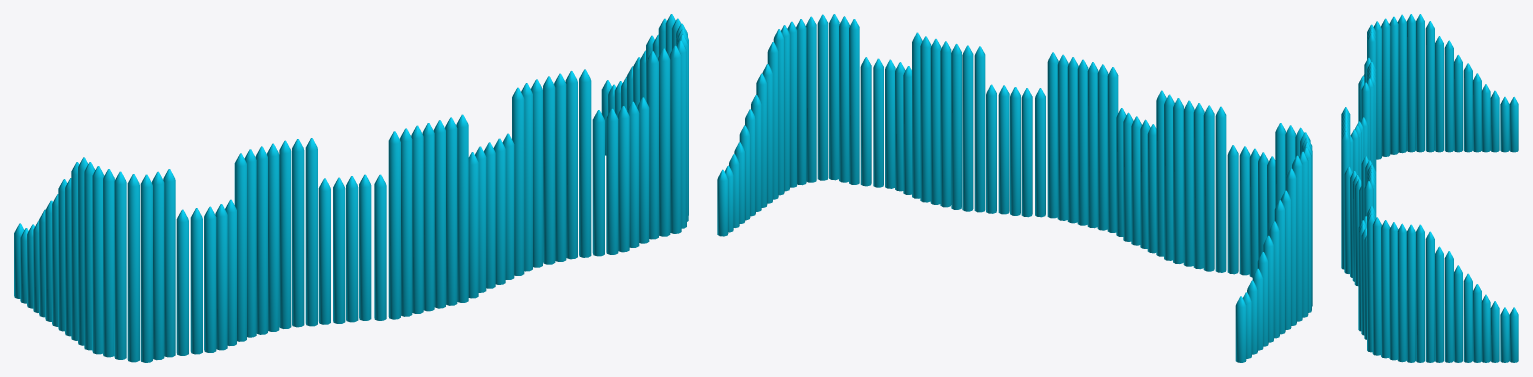
The model's file is StockadeStakes_low.fbx.
3 renders of one model, left to right at view 1: azimuth 30°, elevation 25°; view 2: azimuth 150°, elevation 25°; view 3: azimuth 270°, elevation 25°, orthographic. The views are drawn at different scales.
Parts seen in each view (by area): view 1: 1Stakes_low; view 2: 1Stakes_low; view 3: 1Stakes_low.
Part boxes in pixels (x1,y1,x2,y2): 1Stakes_low: [14, 14, 688, 362]; 1Stakes_low: [717, 14, 1312, 362]; 1Stakes_low: [1341, 14, 1518, 362].
Size of the model in its own units: 16991 by 5032 by 5948.
